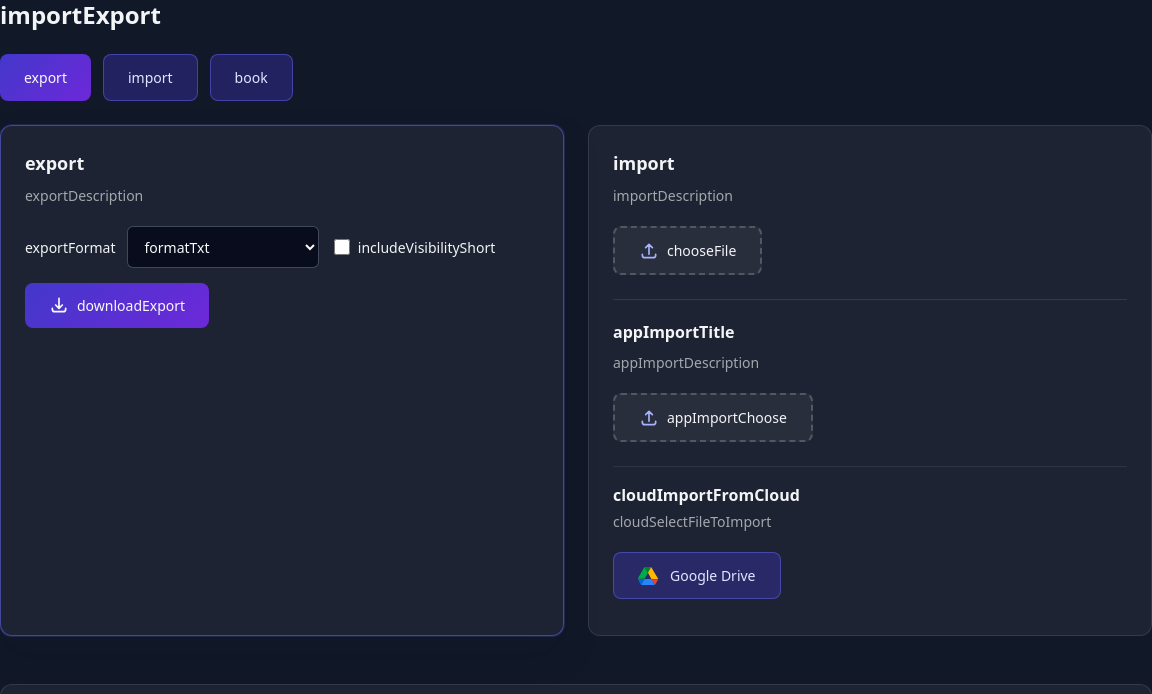
Test: ImportExport › shows an error when downloading a cloud file fails
Click the button "Google Drive": x=697, y=576 [613,552,780,599]
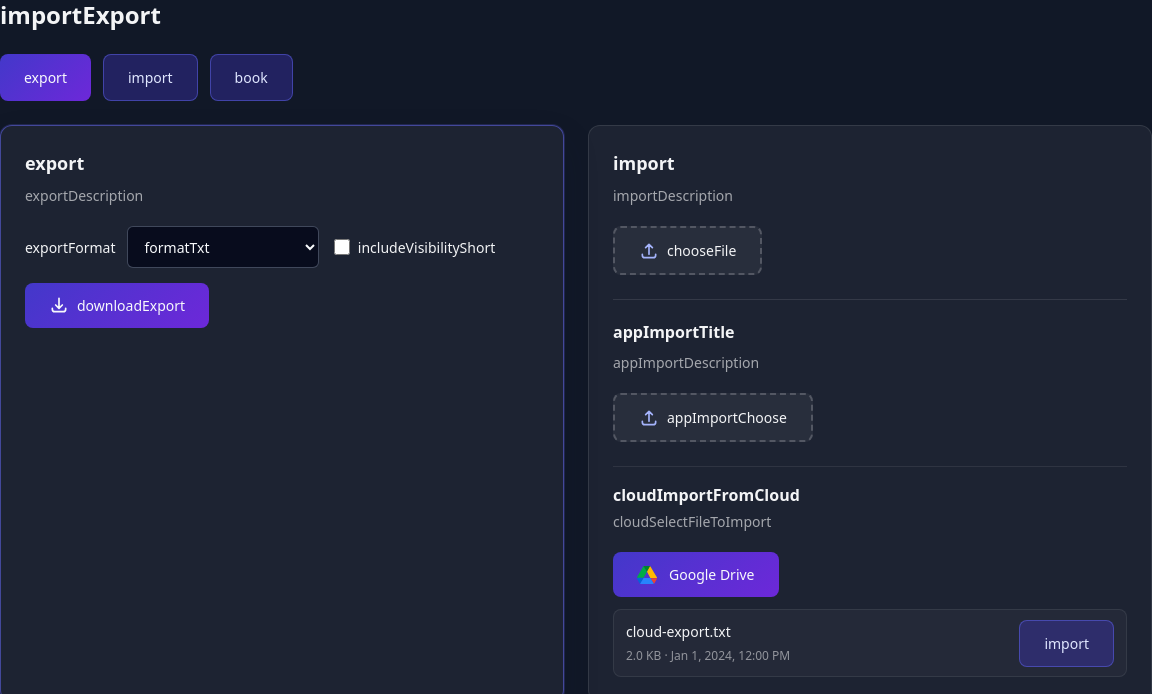
Expected: the text "cloud-export.txt" is shown, [626,622,731,641]
Click the button "import" in the row of "Jan 1, 2024, 12:00 PM": x=1067, y=643 [1019,620,1114,667]
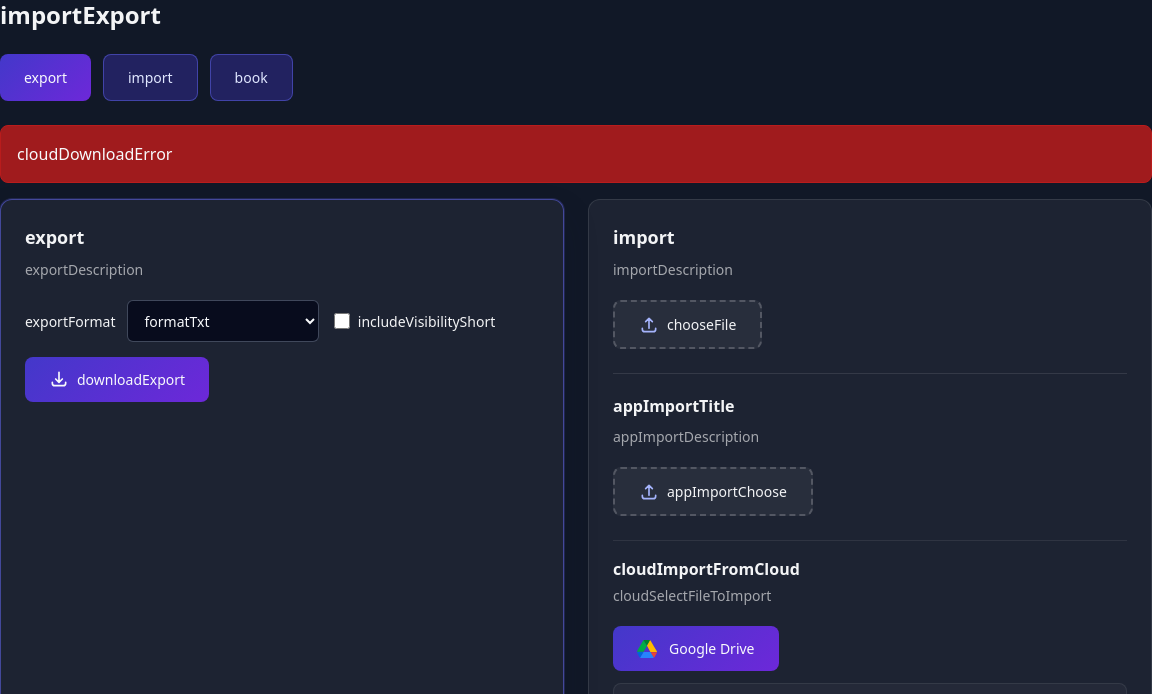
Expected: the text "cloudDownloadError" is shown, [0,125,1151,183]
